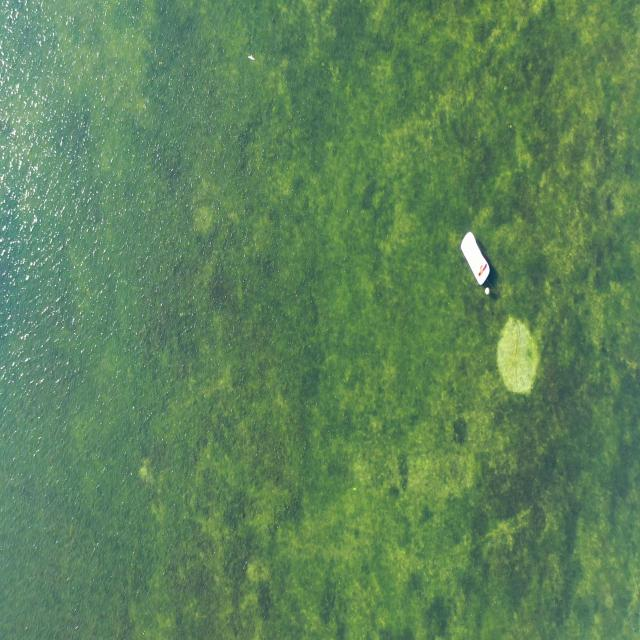boat: (458, 232, 492, 284)
bouy: (482, 286, 490, 298)
